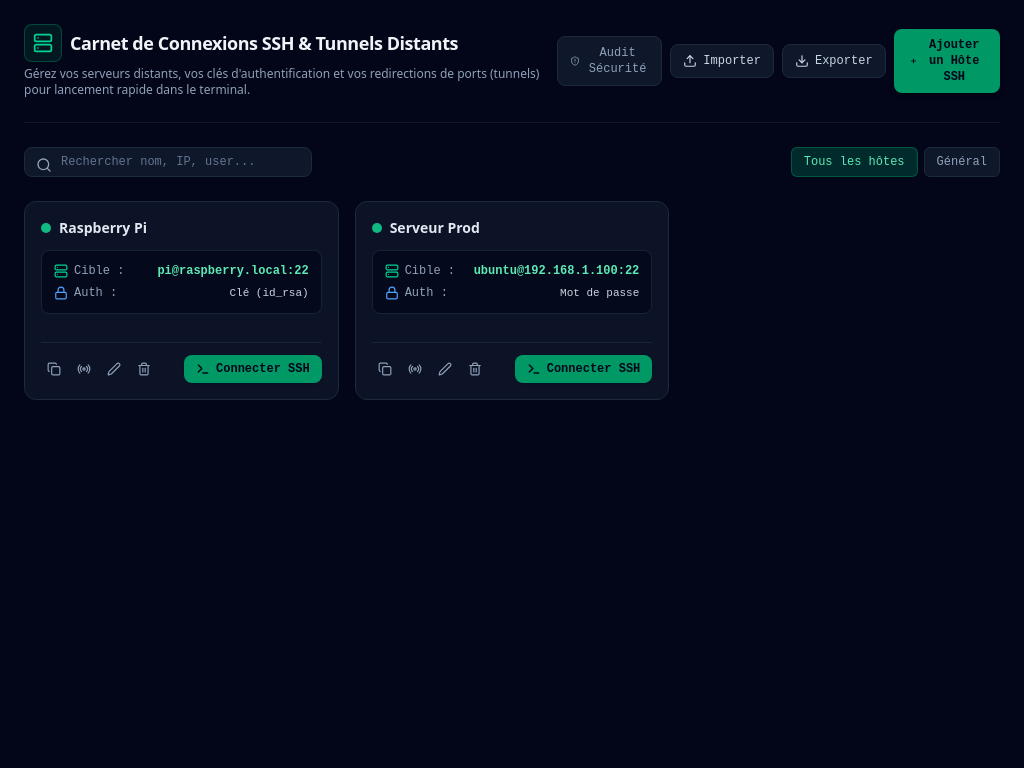
Test case: SshHostManager — actions avancées › modifie un hôte via le bouton d'édition
Expected: the heading "Raspberry Pi" is shown, x1=59 y1=218 x2=147 y2=238
Click the button titled "Modifier la configuration" below "Clé (id_rsa)" at point(114, 369), box x1=101 y1=356 x2=127 y2=382
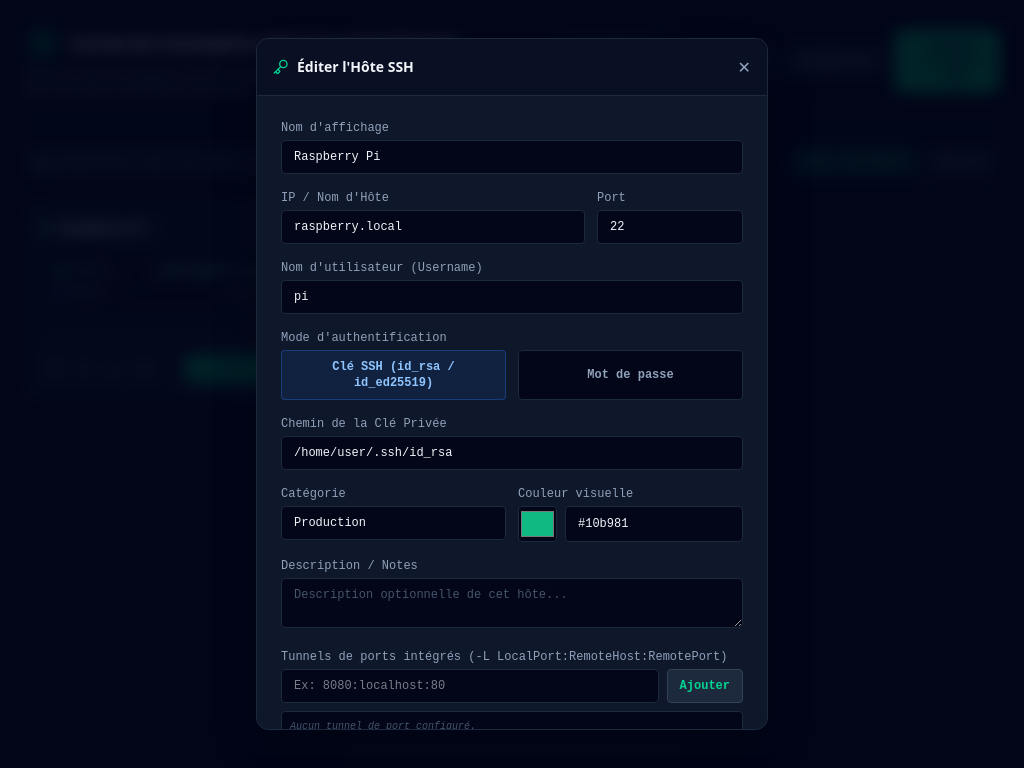
Expected: the heading "Éditer l'Hôte SSH" is shown, x1=273 y1=57 x2=414 y2=77
Expected: the field showing "Raspberry Pi" below "Nom d'affichage" is shown, x1=281 y1=140 x2=743 y2=174
